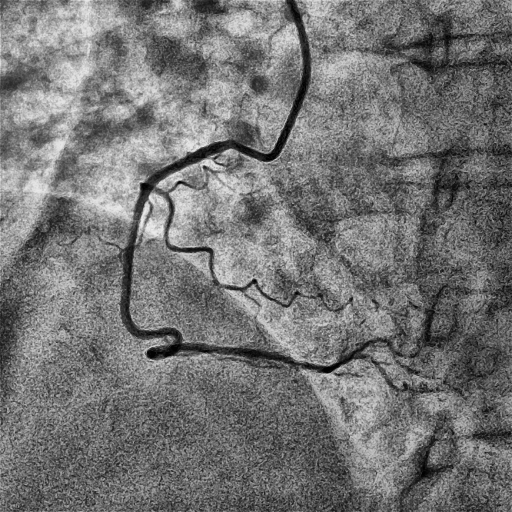pborca: (353, 314, 432, 358)
pda: (356, 354, 408, 392)
rca: (120, 139, 354, 373)
